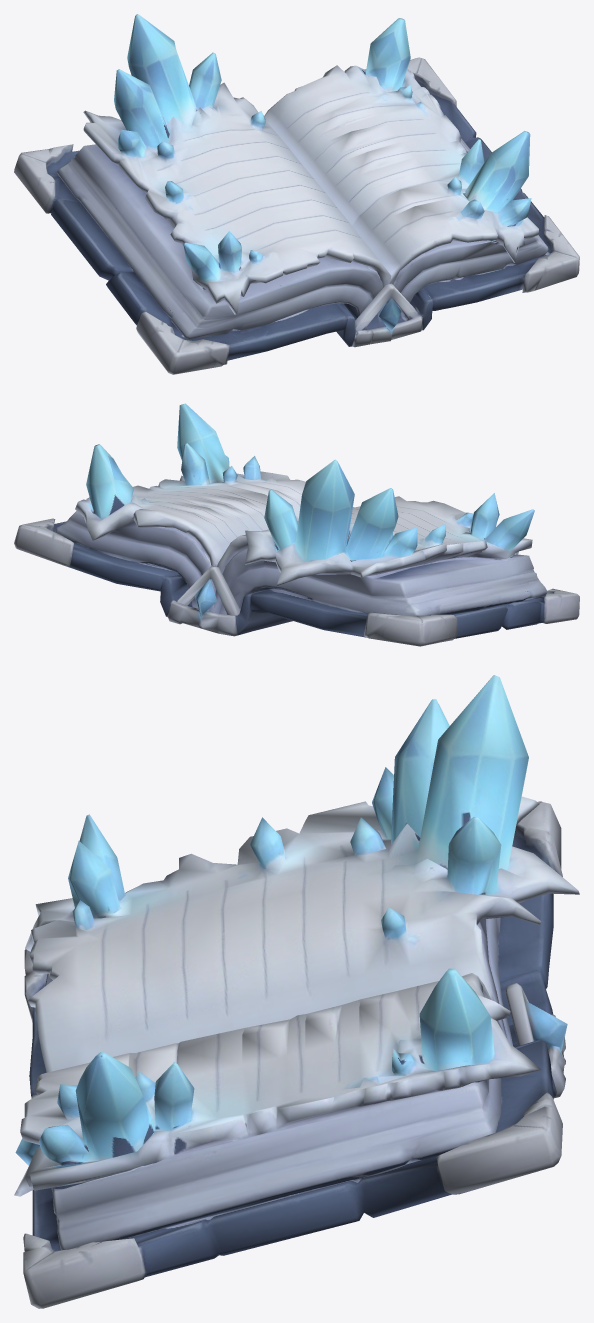
The model's file is tll_ch3_tome.glb.
The picture shows the model from 3 angles, top to bottom: view 1: azimuth 30°, elevation 25°; view 2: azimuth 150°, elevation 25°; view 3: azimuth 270°, elevation 25°; orthographic projection. The views are drawn at different scales.
Visible parts, largest first — view 1: tripo_node_15464212-856c-4efa-9a01-a440c505c1ad; view 2: tripo_node_15464212-856c-4efa-9a01-a440c505c1ad; view 3: tripo_node_15464212-856c-4efa-9a01-a440c505c1ad.
Part boxes in pixels (x1,y1,x2,y2): tripo_node_15464212-856c-4efa-9a01-a440c505c1ad: (14, 14, 579, 374); tripo_node_15464212-856c-4efa-9a01-a440c505c1ad: (14, 403, 579, 646); tripo_node_15464212-856c-4efa-9a01-a440c505c1ad: (14, 675, 579, 1308).
Bounding box in the file's own units: 0.9782 × 0.58 × 0.7025.
1 material, 1 textured.
